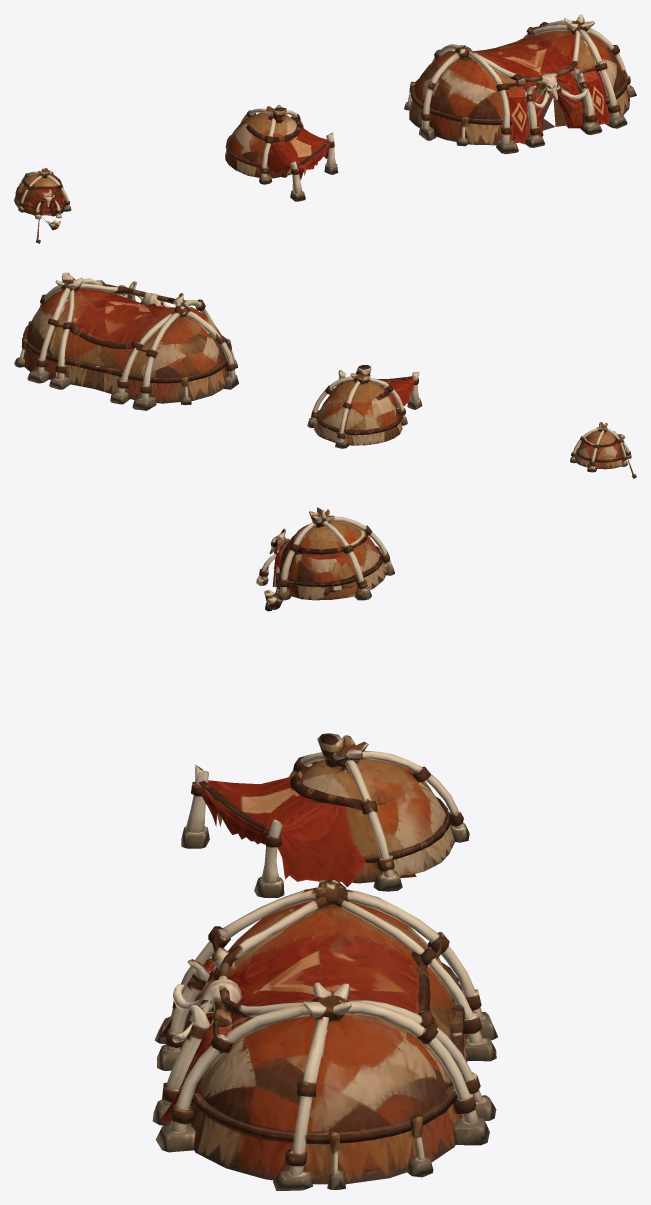
File: bones_pack_05_buildings_clean.glb
The picture shows the model from 3 angles, top to bottom: view 1: azimuth 30°, elevation 25°; view 2: azimuth 150°, elevation 25°; view 3: azimuth 270°, elevation 25°; orthographic projection. The views are drawn at different scales.
Visible parts, largest first — view 1: bone_hall, bone_hut_b, bone_hut_a; view 2: bone_hall, bone_hut_b, bone_hut_a; view 3: bone_hall, bone_hut_b, bone_hut_a.
Part boxes in pixels (x1,y1,x2,y2): bone_hall: (404,14,636,154); bone_hut_b: (225,104,338,201); bone_hut_a: (14,167,71,243); bone_hall: (14,272,238,410); bone_hut_b: (307,364,422,448); bone_hut_a: (570,422,636,478); bone_hall: (152,879,497,1190); bone_hut_b: (181,733,469,897); bone_hut_a: (256,507,394,611).
Size of the model in its own units: 36.5 by 4.5 by 9.1.
Materials: 1 (1 with a texture image).
